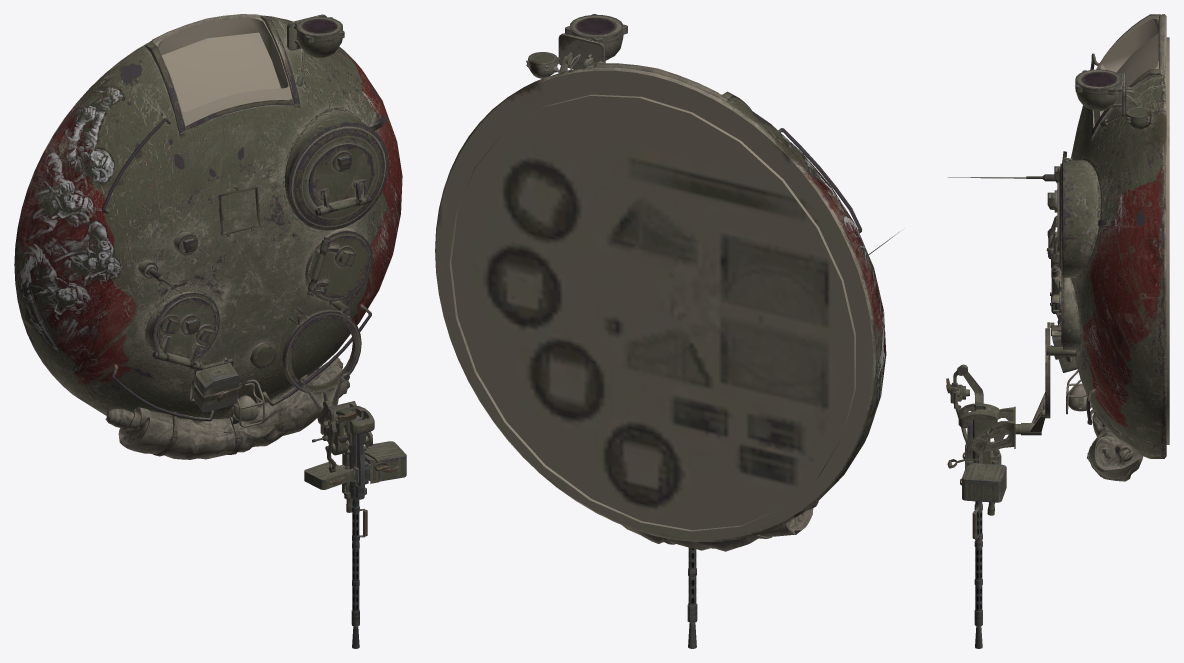
Rendered from Turret_01.glb.
The picture shows the model from 3 angles, left to right: view 1: azimuth 30°, elevation 25°; view 2: azimuth 150°, elevation 25°; view 3: azimuth 270°, elevation 25°; orthographic projection. The views are drawn at different scales.
Visible parts, largest first — view 1: set_0_group_0; view 2: set_0_group_0; view 3: set_0_group_0.
Boxes of the visible parts, box(x1,y1,x2,y2) form: set_0_group_0: box(14, 14, 406, 648); set_0_group_0: box(435, 14, 898, 648); set_0_group_0: box(946, 14, 1169, 648).
Size of the model in its own units: 3.29 by 4.79 by 1.74.
1 material, 1 textured.
